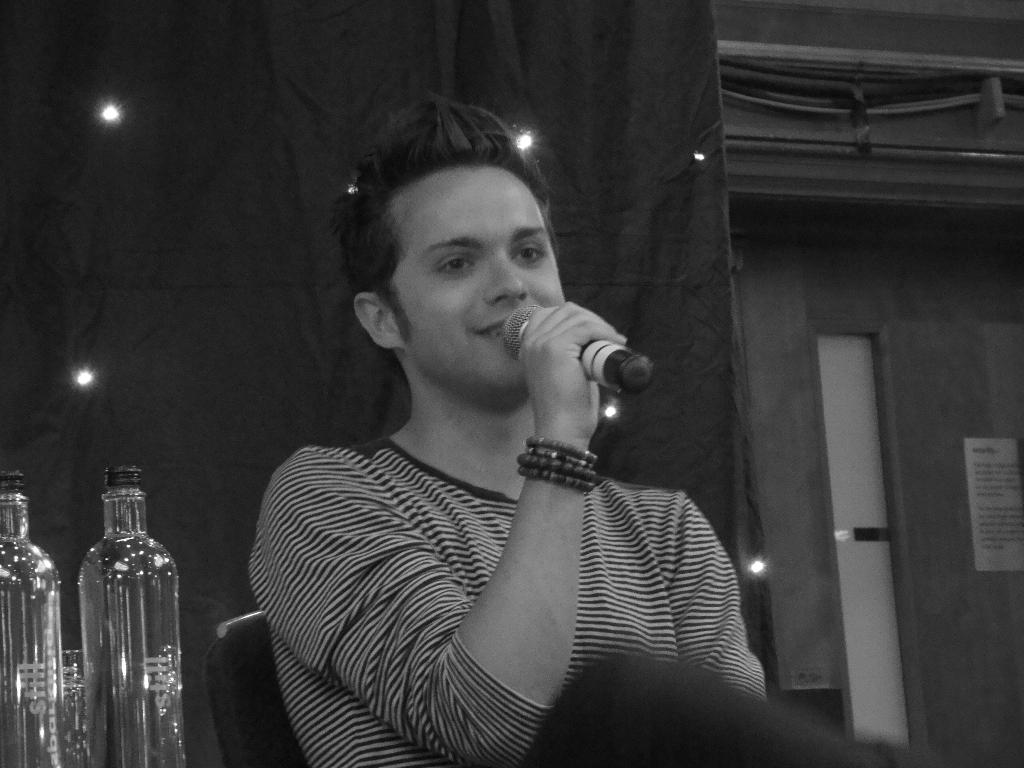Human_hand: (511, 290, 639, 484)
